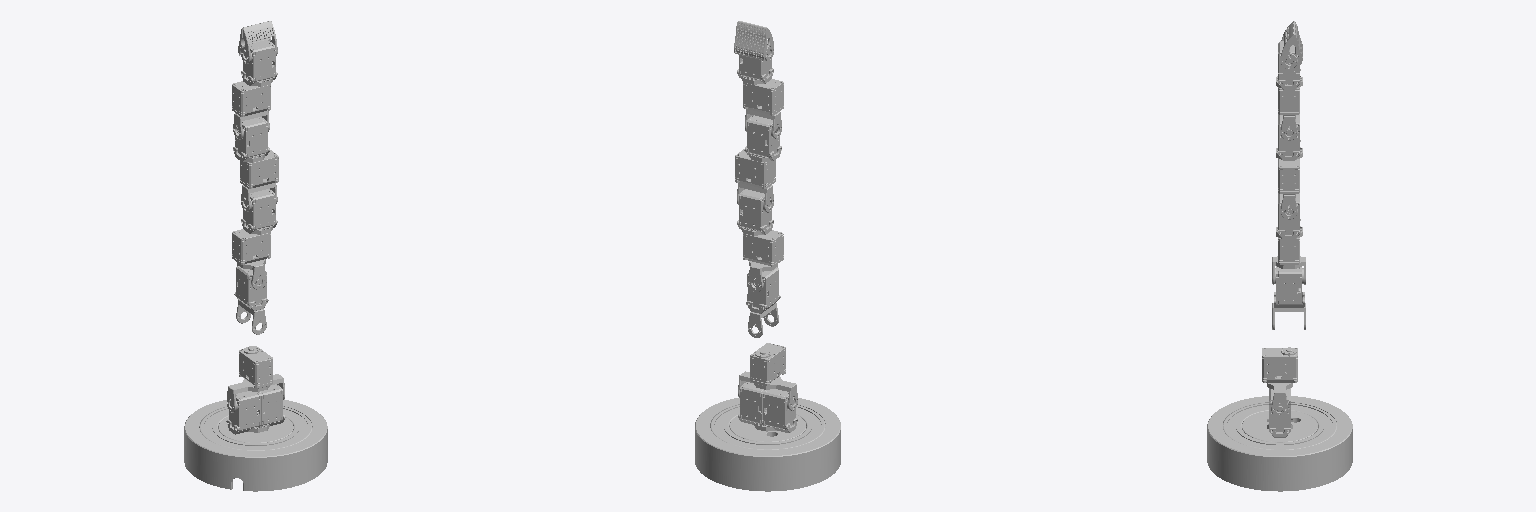
robot.urdf — clsrobo_90441:
<?xml version="1.0" ?>
<robot name="clsrobo_90441" xmlns:xacro="http://www.ros.org/wiki/xacro">

    <material name="silver">
        <color rgba="0.8 0.8 0.8 1.000"/>
    </material>

    <!-->Link Tags Go Here<-->
    
<link name="0_link">
        <inertial>
            <origin rpy="0 0 0" xyz="0.00003821186809 -0.00030983086283 0.01875604321375"/>
            <mass value="2.07110000000000"/>
            <inertia ixx="3.64188928305714" ixy="0.00000514769757" ixz="0.00000085409818" iyy="3.64187376134656" iyz="0.00000286492593" izz="0.01059796903767"/>
        </inertial>
        <visual>
            <origin rpy="0 0 0" xyz="0 0 0"/>
            <geometry>
                <mesh filename="package://clsrobo_90441_description/meshes/0_link.stl" scale="0.001 0.001 0.001"/>
            </geometry>
            <material name="silver"/>
        </visual>
        <collision>
            <origin rpy="0 0 0" xyz="0 0 0"/>
            <geometry>
                <mesh filename="package://clsrobo_90441_description/meshes/0_link.stl" scale="0.001 0.001 0.001"/>
            </geometry>
        </collision>
    </link>

<link name="1_link">
        <inertial>
            <origin rpy="0 0 0" xyz="0.00012843477802 -0.00014275664176 0.02077775078681"/>
            <mass value="0.22750000000000"/>
            <inertia ixx="0.00019717203900" ixy="-0.00000059205455" ixz="0.00000047245861" iyy="0.00024035701003" iyz="-0.00000052463206" izz="0.00022140776924"/>
        </inertial>
        <visual>
            <origin rpy="0 0 0" xyz="0 0 0"/>
            <geometry>
                <mesh filename="package://clsrobo_90441_description/meshes/1_link.stl" scale="0.001 0.001 0.001"/>
            </geometry>
            <material name="silver"/>
        </visual>
        <collision>
            <origin rpy="0 0 0" xyz="0 0 0"/>
            <geometry>
                <mesh filename="package://clsrobo_90441_description/meshes/1_link.stl" scale="0.001 0.001 0.001"/>
            </geometry>
        </collision>
    </link>

<link name="2_link">
        <inertial>
            <origin rpy="0 0 0" xyz="0.00000000000000 0.00000000000000 0.04327280106237"/>
            <mass value="0.07003200000000"/>
            <inertia ixx="0.00001922677189" ixy="0.00000000789700" ixz="-0.00000033247000" iyy="0.00003200377189" iyz="-0.00000000906400" izz="0.00002148900000"/>
        </inertial>
        <visual>
            <origin rpy="0 0 0" xyz="0 0 0"/>
            <geometry>
                <mesh filename="package://clsrobo_90441_description/meshes/2_link.stl" scale="0.001 0.001 0.001"/>
            </geometry>
            <material name="silver"/>
        </visual>
        <collision>
            <origin rpy="0 0 0" xyz="0 0 0"/>
            <geometry>
                <mesh filename="package://clsrobo_90441_description/meshes/2_link.stl" scale="0.001 0.001 0.001"/>
            </geometry>
        </collision>
    </link>

<link name="3_link">
        <inertial>
            <origin rpy="0 0 0" xyz="0.00000000000000 0.00000000000000 0.02842285202155"/>
            <mass value="0.06198200000000"/>
            <inertia ixx="0.00001781079875" ixy="0.00000000881800" ixz="-0.00000006923300" iyy="0.00002019079875" iyz="-0.00000000773100" izz="0.00001068200000"/>
        </inertial>
        <visual>
            <origin rpy="0 0 0" xyz="0 0 0"/>
            <geometry>
                <mesh filename="package://clsrobo_90441_description/meshes/3_link.stl" scale="0.001 0.001 0.001"/>
            </geometry>
            <material name="silver"/>
        </visual>
        <collision>
            <origin rpy="0 0 0" xyz="0 0 0"/>
            <geometry>
                <mesh filename="package://clsrobo_90441_description/meshes/3_link.stl" scale="0.001 0.001 0.001"/>
            </geometry>
        </collision>
    </link>

<link name="4_link">
        <inertial>
            <origin rpy="0 0 0" xyz="0.00000000000000 -0.00000039347944 0.04972363461654"/>
            <mass value="0.06634400000000"/>
            <inertia ixx="0.00002499972701" ixy="0.00000000881800" ixz="-0.00000006923300" iyy="0.00002893772689" iyz="-0.00000000852413" izz="0.00001210800012"/>
        </inertial>
        <visual>
            <origin rpy="0 0 0" xyz="0 0 0"/>
            <geometry>
                <mesh filename="package://clsrobo_90441_description/meshes/4_link.stl" scale="0.001 0.001 0.001"/>
            </geometry>
            <material name="silver"/>
        </visual>
        <collision>
            <origin rpy="0 0 0" xyz="0 0 0"/>
            <geometry>
                <mesh filename="package://clsrobo_90441_description/meshes/4_link.stl" scale="0.001 0.001 0.001"/>
            </geometry>
        </collision>
    </link>

<link name="5_link">
        <inertial>
            <origin rpy="0 0 0" xyz="0.00000000000000 0.00000000000000 0.04389676587057"/>
            <mass value="0.06808200000000"/>
            <inertia ixx="0.00001823124550" ixy="0.00000000789700" ixz="-0.00000033247000" iyy="0.00002650824550" iyz="-0.00000000906400" izz="0.00001691500000"/>
        </inertial>
        <visual>
            <origin rpy="0 0 0" xyz="0 0 0"/>
            <geometry>
                <mesh filename="package://clsrobo_90441_description/meshes/5_link.stl" scale="0.001 0.001 0.001"/>
            </geometry>
            <material name="silver"/>
        </visual>
        <collision>
            <origin rpy="0 0 0" xyz="0 0 0"/>
            <geometry>
                <mesh filename="package://clsrobo_90441_description/meshes/5_link.stl" scale="0.001 0.001 0.001"/>
            </geometry>
        </collision>
    </link>

<link name="6_link">
        <inertial>
            <origin rpy="0 0 0" xyz="0.00000000000000 0.00000000000000 0.02842285202155"/>
            <mass value="0.06198200000000"/>
            <inertia ixx="0.00001781079875" ixy="0.00000000881800" ixz="-0.00000006923300" iyy="0.00002019079875" iyz="-0.00000000773100" izz="0.00001068200000"/>
        </inertial>
        <visual>
            <origin rpy="0 0 0" xyz="0 0 0"/>
            <geometry>
                <mesh filename="package://clsrobo_90441_description/meshes/6_link.stl" scale="0.001 0.001 0.001"/>
            </geometry>
            <material name="silver"/>
        </visual>
        <collision>
            <origin rpy="0 0 0" xyz="0 0 0"/>
            <geometry>
                <mesh filename="package://clsrobo_90441_description/meshes/6_link.stl" scale="0.001 0.001 0.001"/>
            </geometry>
        </collision>
    </link>

<link name="7_link">
        <inertial>
            <origin rpy="0 0 0" xyz="0.00000000000000 -0.00000039420434 0.04452403704207"/>
            <mass value="0.06622200000000"/>
            <inertia ixx="0.00001698091550" ixy="0.00000000789700" ixz="-0.00000033247000" iyy="0.00002542591538" iyz="-0.00000000972139" izz="0.00001650000012"/>
        </inertial>
        <visual>
            <origin rpy="0 0 0" xyz="0 0 0"/>
            <geometry>
                <mesh filename="package://clsrobo_90441_description/meshes/7_link.stl" scale="0.001 0.001 0.001"/>
            </geometry>
            <material name="silver"/>
        </visual>
        <collision>
            <origin rpy="0 0 0" xyz="0 0 0"/>
            <geometry>
                <mesh filename="package://clsrobo_90441_description/meshes/7_link.stl" scale="0.001 0.001 0.001"/>
            </geometry>
        </collision>
    </link>

<link name="8_link">
        <inertial>
            <origin rpy="0 0 0" xyz="0.00000000000000 0.00000000000000 0.02842285202155"/>
            <mass value="0.06198200000000"/>
            <inertia ixx="0.00001781079875" ixy="0.00000000881800" ixz="-0.00000006923300" iyy="0.00002019079875" iyz="-0.00000000773100" izz="0.00001068200000"/>
        </inertial>
        <visual>
            <origin rpy="0 0 0" xyz="0 0 0"/>
            <geometry>
                <mesh filename="package://clsrobo_90441_description/meshes/8_link.stl" scale="0.001 0.001 0.001"/>
            </geometry>
            <material name="silver"/>
        </visual>
        <collision>
            <origin rpy="0 0 0" xyz="0 0 0"/>
            <geometry>
                <mesh filename="package://clsrobo_90441_description/meshes/8_link.stl" scale="0.001 0.001 0.001"/>
            </geometry>
        </collision>
    </link>

<link name="9_link">
        <inertial>
            <origin rpy="0 0 0" xyz="0.00000000000000 -0.00000039420434 0.04452403704207"/>
            <mass value="0.06622200000000"/>
            <inertia ixx="0.00001698091550" ixy="0.00000000789700" ixz="-0.00000033247000" iyy="0.00002542591538" iyz="-0.00000000972139" izz="0.00001650000012"/>
        </inertial>
        <visual>
            <origin rpy="0 0 0" xyz="0 0 0"/>
            <geometry>
                <mesh filename="package://clsrobo_90441_description/meshes/9_link.stl" scale="0.001 0.001 0.001"/>
            </geometry>
            <material name="silver"/>
        </visual>
        <collision>
            <origin rpy="0 0 0" xyz="0 0 0"/>
            <geometry>
                <mesh filename="package://clsrobo_90441_description/meshes/9_link.stl" scale="0.001 0.001 0.001"/>
            </geometry>
        </collision>
    </link>

<link name="10_link">
        <inertial>
            <origin rpy="0 0 0" xyz="0.00000000000000 0.00000000000000 0.02858005449096"/>
            <mass value="0.06705700000000"/>
            <inertia ixx="0.00001783103790" ixy="0.00000000881800" ixz="-0.00000006923300" iyy="0.00002021103790" iyz="-0.00000000773100" izz="0.00001068200000"/>
        </inertial>
        <visual>
            <origin rpy="0 0 0" xyz="0 0 0"/>
            <geometry>
                <mesh filename="package://clsrobo_90441_description/meshes/10_link.stl" scale="0.001 0.001 0.001"/>
            </geometry>
            <material name="silver"/>
        </visual>
        <collision>
            <origin rpy="0 0 0" xyz="0 0 0"/>
            <geometry>
                <mesh filename="package://clsrobo_90441_description/meshes/10_link.stl" scale="0.001 0.001 0.001"/>
            </geometry>
        </collision>
    </link>

<link name="11_link">
        <inertial>
            <origin rpy="0 0 0" xyz="0.00000000000000 0.00000000000000 0.01800000000000"/>
            <mass value="0.00716000000000"/>
            <inertia ixx="0.00000123800000" ixy="-0.00000000020200" ixz="-0.00000000016500" iyy="0.00000283900000" iyz="0.00000012121400" izz="0.00000187100000"/>
        </inertial>
        <visual>
            <origin rpy="0 0 0" xyz="0 0 0"/>
            <geometry>
                <mesh filename="package://clsrobo_90441_description/meshes/11_link.stl" scale="0.001 0.001 0.001"/>
            </geometry>
            <material name="silver"/>
        </visual>
        <collision>
            <origin rpy="0 0 0" xyz="0 0 0"/>
            <geometry>
                <mesh filename="package://clsrobo_90441_description/meshes/11_link.stl" scale="0.001 0.001 0.001"/>
            </geometry>
        </collision>
    </link>


    <!-->Joint Tags Go Here<-->
    
<joint name="joint_0" type="revolute">
        <origin rpy="0 0 0" xyz="0.00000000000000 0.00000000000000 0.04100000000000"/>
        <limit effort="1000.0" lower="-3.14" upper="3.14" velocity="1.0"/>
        <parent link="0_link"/>
        <child link="1_link"/>
        <axis xyz="0.00000000000000 0.00000000000000 1.00000000000000"/>
</joint>


<joint name="joint_1" type="revolute">
        <origin rpy="0 0 0" xyz="0.00000000000000 0.00000000000000 0.05098200000000"/>
        <limit effort="1000.0" lower="-1.57" upper="1.57" velocity="1.0"/>
        <parent link="1_link"/>
        <child link="2_link"/>
        <axis xyz="1.00000000000000 0.00000000000000 0.00000000000000"/>
</joint>


<joint name="joint_2" type="revolute">
        <origin rpy="0 0 0" xyz="0.00000000000000 0.01200000000000 0.06650000000000"/>
        <limit effort="1000.0" lower="-3.14" upper="3.14" velocity="1.0"/>
        <parent link="2_link"/>
        <child link="3_link"/>
        <axis xyz="0.00000000000000 0.00000000000000 1.00000000000000"/>
</joint>


<joint name="joint_3" type="revolute">
        <origin rpy="0 0 0" xyz="0.00000000000000 -0.00000000000000 0.04175000000000"/>
        <limit effort="1000.0" lower="-1.57" upper="1.57" velocity="1.0"/>
        <parent link="3_link"/>
        <child link="4_link"/>
        <axis xyz="-0.00000000000000 -1.00000000000000 0.00000000000000"/>
</joint>


<joint name="joint_4" type="revolute">
        <origin rpy="0 0 0" xyz="0.00000000000000 -0.00000000000000 0.06575000000000"/>
        <limit effort="1000.0" lower="-1.57" upper="1.57" velocity="1.0"/>
        <parent link="4_link"/>
        <child link="5_link"/>
        <axis xyz="-0.00000000000000 -1.00000000000000 0.00000000000000"/>
</joint>


<joint name="joint_5" type="revolute">
        <origin rpy="0 0 0" xyz="0.01200000000000 -0.00000000000000 0.06650000000000"/>
        <limit effort="1000.0" lower="-3.14" upper="3.14" velocity="1.0"/>
        <parent link="5_link"/>
        <child link="6_link"/>
        <axis xyz="0.00000000000000 0.00000000000000 1.00000000000000"/>
</joint>


<joint name="joint_6" type="revolute">
        <origin rpy="0 0 0" xyz="-0.00000000000000 0.00000000000000 0.04175000000000"/>
        <limit effort="1000.0" lower="-1.57" upper="1.57" velocity="1.0"/>
        <parent link="6_link"/>
        <child link="7_link"/>
        <axis xyz="-1.00000000000000 0.00000000000000 0.00000000000000"/>
</joint>


<joint name="joint_7" type="revolute">
        <origin rpy="0 0 0" xyz="-0.01200000000000 0.00000000000000 0.06650000000000"/>
        <limit effort="1000.0" lower="-3.14" upper="3.14" velocity="1.0"/>
        <parent link="7_link"/>
        <child link="8_link"/>
        <axis xyz="0.00000000000000 0.00000000000000 1.00000000000000"/>
</joint>


<joint name="joint_8" type="revolute">
        <origin rpy="0 0 0" xyz="0.00000000000000 0.00000000000000 0.04175000000000"/>
        <limit effort="1000.0" lower="-1.57" upper="1.57" velocity="1.0"/>
        <parent link="8_link"/>
        <child link="9_link"/>
        <axis xyz="1.00000000000000 -0.00000000000000 0.00000000000000"/>
</joint>


<joint name="joint_9" type="revolute">
        <origin rpy="0 0 0" xyz="0.01200000000000 -0.00000000000000 0.06650000000000"/>
        <limit effort="1000.0" lower="-3.14" upper="3.14" velocity="1.0"/>
        <parent link="9_link"/>
        <child link="10_link"/>
        <axis xyz="0.00000000000000 0.00000000000000 1.00000000000000"/>
</joint>


<joint name="joint_10" type="revolute">
        <origin rpy="0 0 0" xyz="-0.00000000000000 0.00000000000000 0.04175000000000"/>
        <limit effort="1000.0" lower="-1.57" upper="0" velocity="1.0"/>
        <parent link="10_link"/>
        <child link="11_link"/>
        <axis xyz="-1.00000000000000 0.00000000000000 0.00000000000000"/>
</joint>



    <!--Transmissions go here -->
    
<transmission name="joint_0_tran">
  <type>transmission_interface/SimpleTransmission</type>
  <joint name="joint_0">
    <hardwareInterface>hardware_interface/EffortJointInterface</hardwareInterface>
  </joint>
  <actuator name="joint_0_actr">
    <hardwareInterface>hardware_interface/EffortJointInterface</hardwareInterface>
    <mechanicalReduction>1</mechanicalReduction>
  </actuator>
</transmission>


<transmission name="joint_1_tran">
  <type>transmission_interface/SimpleTransmission</type>
  <joint name="joint_1">
    <hardwareInterface>hardware_interface/EffortJointInterface</hardwareInterface>
  </joint>
  <actuator name="joint_1_actr">
    <hardwareInterface>hardware_interface/EffortJointInterface</hardwareInterface>
    <mechanicalReduction>1</mechanicalReduction>
  </actuator>
</transmission>


<transmission name="joint_2_tran">
  <type>transmission_interface/SimpleTransmission</type>
  <joint name="joint_2">
    <hardwareInterface>hardware_interface/EffortJointInterface</hardwareInterface>
  </joint>
  <actuator name="joint_2_actr">
    <hardwareInterface>hardware_interface/EffortJointInterface</hardwareInterface>
    <mechanicalReduction>1</mechanicalReduction>
  </actuator>
</transmission>


<transmission name="joint_3_tran">
  <type>transmission_interface/SimpleTransmission</type>
  <joint name="joint_3">
    <hardwareInterface>hardware_interface/EffortJointInterface</hardwareInterface>
  </joint>
  <actuator name="joint_3_actr">
    <hardwareInterface>hardware_interface/EffortJointInterface</hardwareInterface>
    <mechanicalReduction>1</mechanicalReduction>
  </actuator>
</transmission>


<transmission name="joint_4_tran">
  <type>transmission_interface/SimpleTransmission</type>
  <joint name="joint_4">
    <hardwareInterface>hardware_interface/EffortJointInterface</hardwareInterface>
  </joint>
  <actuator name="joint_4_actr">
    <hardwareInterface>hardware_interface/EffortJointInterface</hardwareInterface>
    <mechanicalReduction>1</mechanicalReduction>
  </actuator>
</transmission>


<transmission name="joint_5_tran">
  <type>transmission_interface/SimpleTransmission</type>
  <joint name="joint_5">
    <hardwareInterface>hardware_interface/EffortJointInterface</hardwareInterface>
  </joint>
  <actuator name="joint_5_actr">
    <hardwareInterface>hardware_interface/EffortJointInterface</hardwareInterface>
    <mechanicalReduction>1</mechanicalReduction>
  </actuator>
</transmission>


<transmission name="joint_6_tran">
  <type>transmission_interface/SimpleTransmission</type>
  <joint name="joint_6">
    <hardwareInterface>hardware_interface/EffortJointInterface</hardwareInterface>
  </joint>
  <actuator name="joint_6_actr">
    <hardwareInterface>hardware_interface/EffortJointInterface</hardwareInterface>
    <mechanicalReduction>1</mechanicalReduction>
  </actuator>
</transmission>


<transmission name="joint_7_tran">
  <type>transmission_interface/SimpleTransmission</type>
  <joint name="joint_7">
    <hardwareInterface>hardware_interface/EffortJointInterface</hardwareInterface>
  </joint>
  <actuator name="joint_7_actr">
    <hardwareInterface>hardware_interface/EffortJointInterface</hardwareInterface>
    <mechanicalReduction>1</mechanicalReduction>
  </actuator>
</transmission>


<transmission name="joint_8_tran">
  <type>transmission_interface/SimpleTransmission</type>
  <joint name="joint_8">
    <hardwareInterface>hardware_interface/EffortJointInterface</hardwareInterface>
  </joint>
  <actuator name="joint_8_actr">
    <hardwareInterface>hardware_interface/EffortJointInterface</hardwareInterface>
    <mechanicalReduction>1</mechanicalReduction>
  </actuator>
</transmission>


<transmission name="joint_9_tran">
  <type>transmission_interface/SimpleTransmission</type>
  <joint name="joint_9">
    <hardwareInterface>hardware_interface/EffortJointInterface</hardwareInterface>
  </joint>
  <actuator name="joint_9_actr">
    <hardwareInterface>hardware_interface/EffortJointInterface</hardwareInterface>
    <mechanicalReduction>1</mechanicalReduction>
  </actuator>
</transmission>


<transmission name="joint_10_tran">
  <type>transmission_interface/SimpleTransmission</type>
  <joint name="joint_10">
    <hardwareInterface>hardware_interface/EffortJointInterface</hardwareInterface>
  </joint>
  <actuator name="joint_10_actr">
    <hardwareInterface>hardware_interface/EffortJointInterface</hardwareInterface>
    <mechanicalReduction>1</mechanicalReduction>
  </actuator>
</transmission>




<gazebo>
    <plugin filename="libgazebo_ros_control.so" name="control"/>
</gazebo>

<gazebo reference="0_link">
    <material>Gazebo/Silver</material>
    <mu1>0.2</mu1>
    <mu2>0.2</mu2>
    <selfCollide>true</selfCollide>
    <gravity>true</gravity>
</gazebo>

    
<gazebo reference="1_link">
        <material>Gazebo/Green</material>
        <mu1>0.2</mu1>
        <mu2>0.2</mu2>
        <selfCollide>true</selfCollide>
</gazebo>


<gazebo reference="2_link">
        <material>Gazebo/Green</material>
        <mu1>0.2</mu1>
        <mu2>0.2</mu2>
        <selfCollide>true</selfCollide>
</gazebo>


<gazebo reference="3_link">
        <material>Gazebo/Green</material>
        <mu1>0.2</mu1>
        <mu2>0.2</mu2>
        <selfCollide>true</selfCollide>
</gazebo>


<gazebo reference="4_link">
        <material>Gazebo/Green</material>
        <mu1>0.2</mu1>
        <mu2>0.2</mu2>
        <selfCollide>true</selfCollide>
</gazebo>


<gazebo reference="5_link">
        <material>Gazebo/Green</material>
        <mu1>0.2</mu1>
        <mu2>0.2</mu2>
        <selfCollide>true</selfCollide>
</gazebo>


<gazebo reference="6_link">
        <material>Gazebo/Green</material>
        <mu1>0.2</mu1>
        <mu2>0.2</mu2>
        <selfCollide>true</selfCollide>
</gazebo>


<gazebo reference="7_link">
        <material>Gazebo/Green</material>
        <mu1>0.2</mu1>
        <mu2>0.2</mu2>
        <selfCollide>true</selfCollide>
</gazebo>


<gazebo reference="8_link">
        <material>Gazebo/Green</material>
        <mu1>0.2</mu1>
        <mu2>0.2</mu2>
        <selfCollide>true</selfCollide>
</gazebo>


<gazebo reference="9_link">
        <material>Gazebo/Green</material>
        <mu1>0.2</mu1>
        <mu2>0.2</mu2>
        <selfCollide>true</selfCollide>
</gazebo>


<gazebo reference="10_link">
        <material>Gazebo/Green</material>
        <mu1>0.2</mu1>
        <mu2>0.2</mu2>
        <selfCollide>true</selfCollide>
</gazebo>


<gazebo reference="11_link">
        <material>Gazebo/Green</material>
        <mu1>0.2</mu1>
        <mu2>0.2</mu2>
        <selfCollide>true</selfCollide>
</gazebo>



</robot>

--- Render facts (derived) ---
Views: 3 orthographic renders of the robot side by side, from view 1: azimuth 30°, elevation 25°; view 2: azimuth 150°, elevation 25°; view 3: azimuth 270°, elevation 25°.
Robot: clsrobo_90441 — 12 links, 11 joints (11 revolute); root link 0_link; default pose: every joint at zero.
Visible links, largest first — view 1: 0_link, 1_link, 2_link, 5_link, 9_link, 4_link, 10_link, 7_link, 6_link, 8_link, 11_link; view 2: 0_link, 1_link, 10_link, 2_link, 5_link, 9_link, 4_link, 7_link, 8_link, 6_link; view 3: 0_link, 1_link, 2_link, 4_link, 7_link, 10_link, 9_link, 5_link, 6_link, 8_link.
Boxes of the visible links, x1,y1,x2,y2 form: 0_link: (184,399,327,491); 1_link: (218,384,293,442); 2_link: (227,346,284,412); 5_link: (232,229,270,289); 9_link: (232,81,270,139); 4_link: (234,266,268,334); 10_link: (238,21,277,86); 7_link: (240,150,278,211); 6_link: (241,189,277,234); 8_link: (233,117,269,162); 11_link: (241,21,277,63); 0_link: (695,398,840,491); 1_link: (730,382,805,441); 10_link: (734,21,773,84); 2_link: (738,343,797,410); 5_link: (743,230,783,291); 9_link: (743,79,783,138); 4_link: (746,267,780,337); 7_link: (735,149,775,212); 8_link: (745,115,781,161); 6_link: (737,189,773,235); 0_link: (1207,396,1352,491); 1_link: (1242,388,1317,441); 2_link: (1262,347,1297,416); 4_link: (1272,266,1305,329); 7_link: (1278,158,1299,219); 10_link: (1276,21,1302,89); 9_link: (1278,87,1299,140); 5_link: (1272,237,1305,284); 6_link: (1276,193,1302,239); 8_link: (1276,114,1302,160).
Bounding box of the posed robot: 0.19 × 0.19 × 0.6296 m (x, y, z).
Meshes: 12 distinct files referenced, 11 mesh visuals loaded (11 binary STL); not drawn: 1 (reference not matched to a file when rendering).
